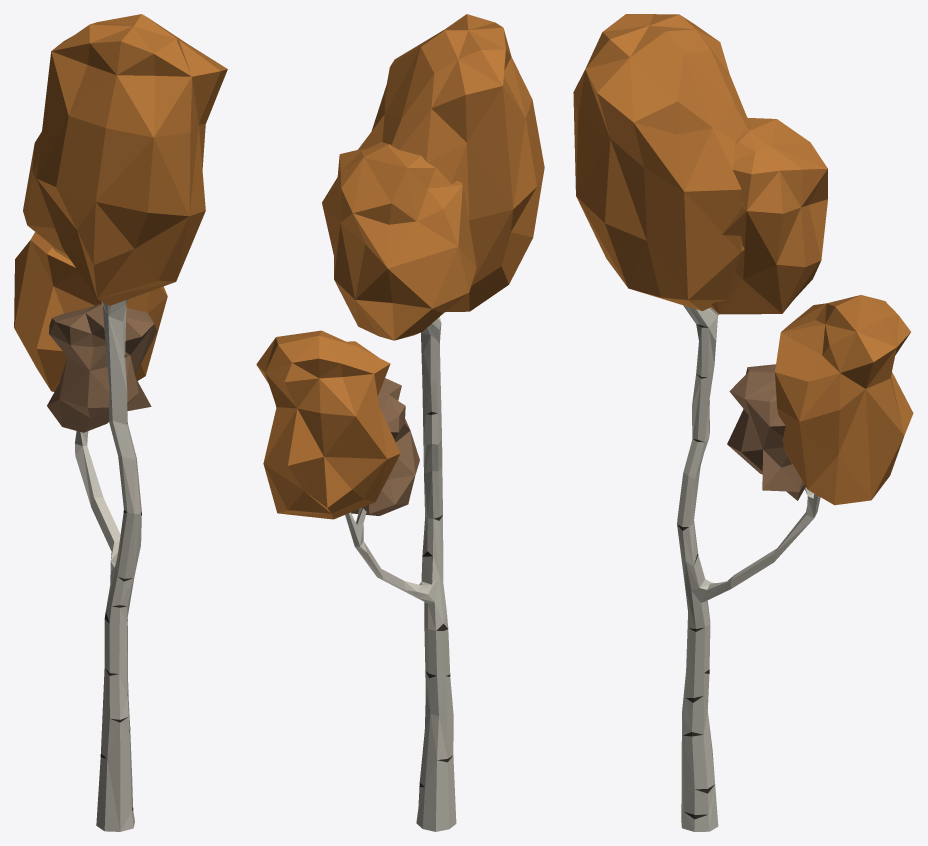
Rendered from BirchTree_Autumn_5.glb.
3 views of the same model, side by side, from view 1: azimuth 30°, elevation 25°; view 2: azimuth 150°, elevation 25°; view 3: azimuth 270°, elevation 25° (orthographic). The views are drawn at different scales.
Parts seen in each view (by area): view 1: BirchTree_Autumn_5; view 2: BirchTree_Autumn_5; view 3: BirchTree_Autumn_5.
Boxes of the visible parts, bbox=[...] form: BirchTree_Autumn_5: bbox=[14, 14, 227, 831]; BirchTree_Autumn_5: bbox=[256, 14, 544, 831]; BirchTree_Autumn_5: bbox=[573, 14, 913, 831].
Size of the model in its own units: 1.19 by 5 by 1.93.
